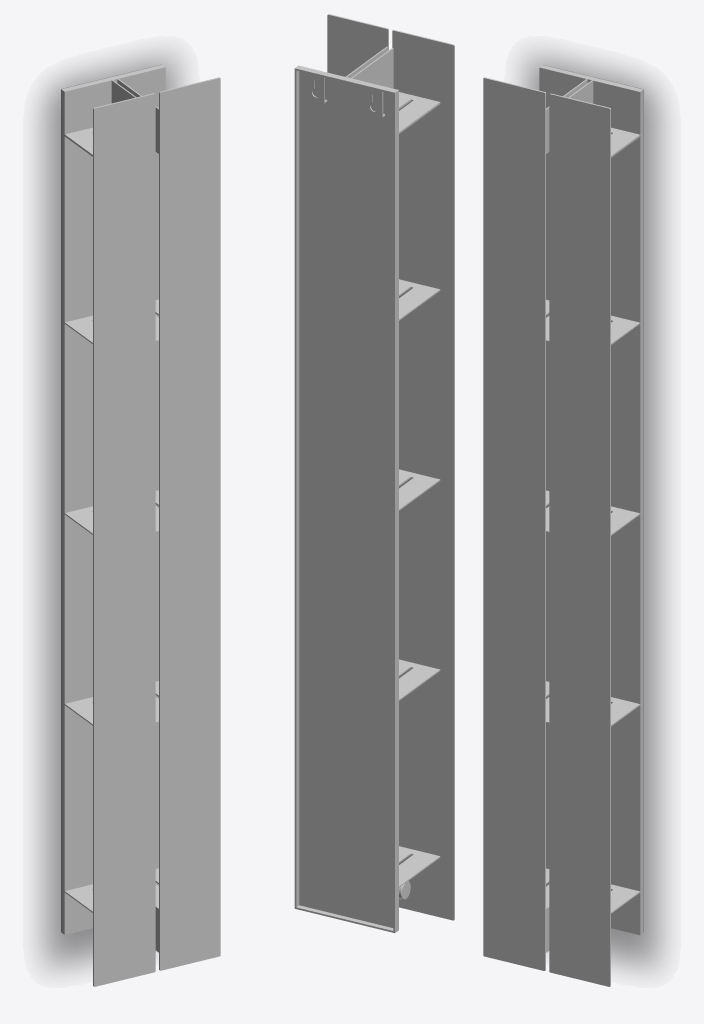
Rendered from skyline-prima.fb56256d1b.ar.glb.
The picture shows the model from 3 angles, left to right: view 1: azimuth 30°, elevation 25°; view 2: azimuth 150°, elevation 25°; view 3: azimuth 330°, elevation 25°; orthographic projection.
Visible parts, largest first — view 1: NAUO1, object 2; view 2: NAUO1; view 3: NAUO1, object 2.
Boxes of the visible parts, x1=… form: NAUO1: x1=61, y1=64, x2=220, y2=986; object 2: x1=39, y1=54, x2=182, y2=969; NAUO1: x1=294, y1=14, x2=454, y2=932; NAUO1: x1=483, y1=64, x2=643, y2=986; object 2: x1=521, y1=54, x2=664, y2=969.
Bounding box in the file's own units: 0.2312 × 1.08 × 0.096.
2 materials, 1 textured.
